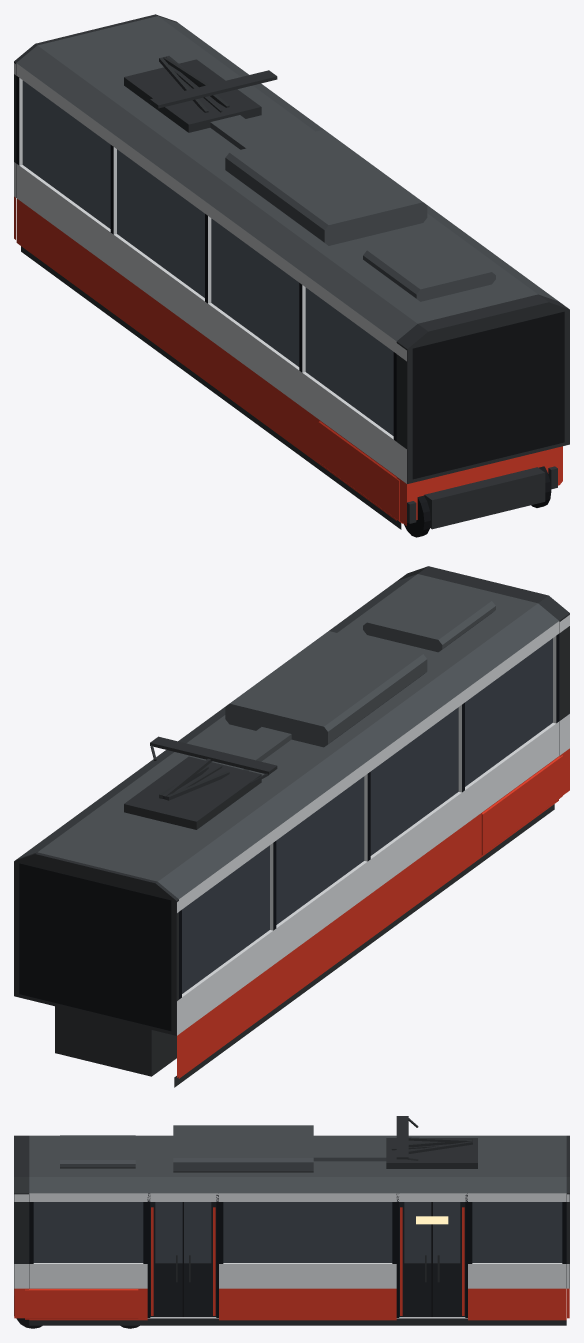
3 renders of one model, top to bottom at view 1: azimuth 30°, elevation 25°; view 2: azimuth 150°, elevation 25°; view 3: azimuth 270°, elevation 25°, orthographic. The views are drawn at different scales.
Visible parts, largest first — view 1: 15t-b; view 2: 15t-b; view 3: 15t-b.
Part boxes in pixels (bbox=[...]): 15t-b: bbox=[14, 14, 569, 537]; 15t-b: bbox=[14, 566, 569, 1087]; 15t-b: bbox=[14, 1116, 569, 1328].
Bounding box in the file's own units: 2.48 × 3.48 × 10.3.
